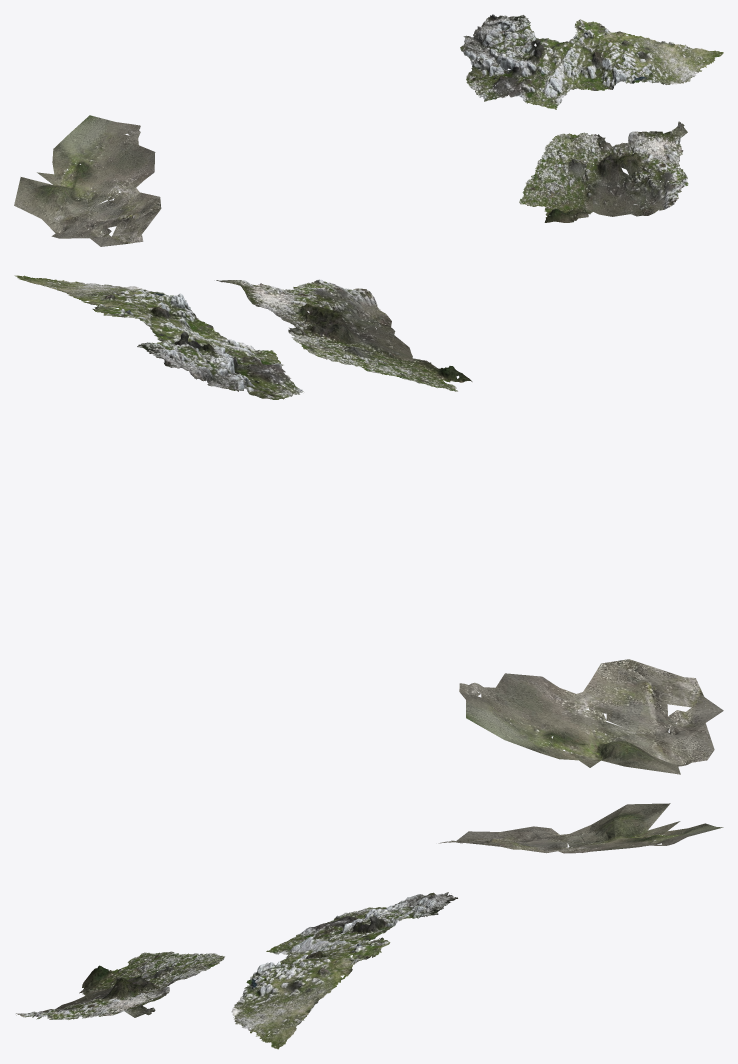
3 renders of one model, top to bottom at view 1: azimuth 30°, elevation 25°; view 2: azimuth 150°, elevation 25°; view 3: azimuth 270°, elevation 25°, orthographic. The views are drawn at different scales.
Size of the model in its own units: 112 by 27.89 by 86.3.
Materials: 1 (1 with a texture image).
